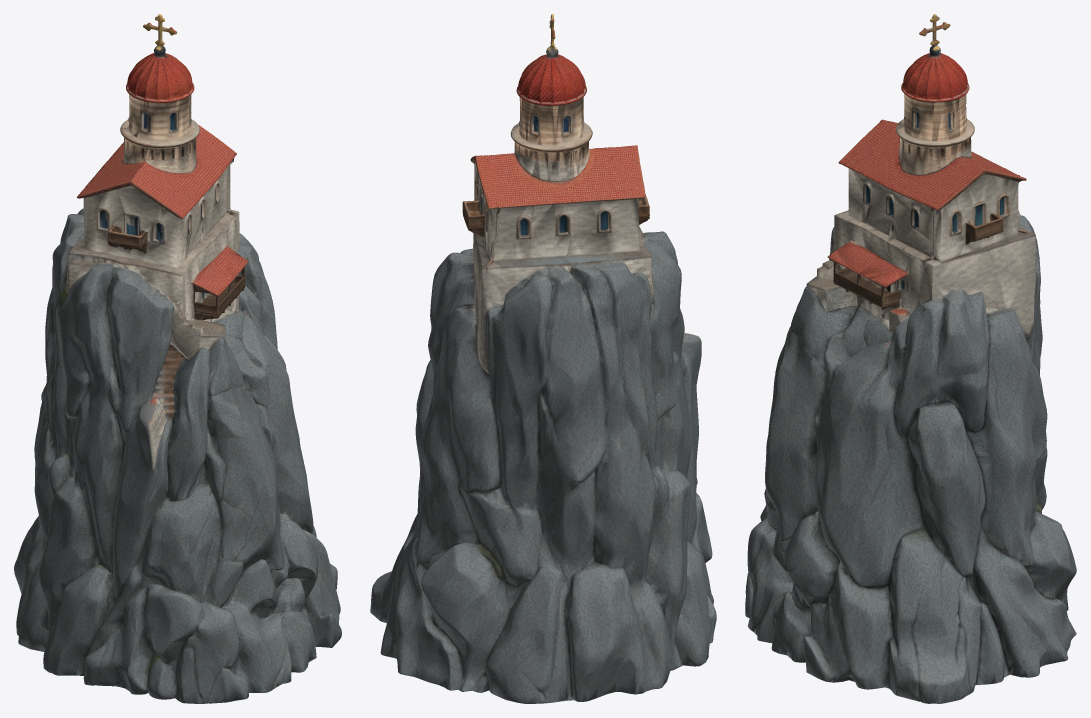
Rendered from maravilha-meteora__01a163ba.glb.
The picture shows the model from 3 angles, left to right: view 1: azimuth 30°, elevation 25°; view 2: azimuth 150°, elevation 25°; view 3: azimuth 270°, elevation 25°; orthographic projection. The views are drawn at different scales.
Visible parts, largest first — view 1: maravilha-meteora__01a163ba; view 2: maravilha-meteora__01a163ba; view 3: maravilha-meteora__01a163ba.
Boxes of the visible parts, x1,y1,x2,y2 form: maravilha-meteora__01a163ba: [14, 14, 341, 703]; maravilha-meteora__01a163ba: [370, 14, 716, 703]; maravilha-meteora__01a163ba: [745, 14, 1076, 703].
Size of the model in its own units: 31.17 by 60 by 29.73.
1 material, 1 textured.
